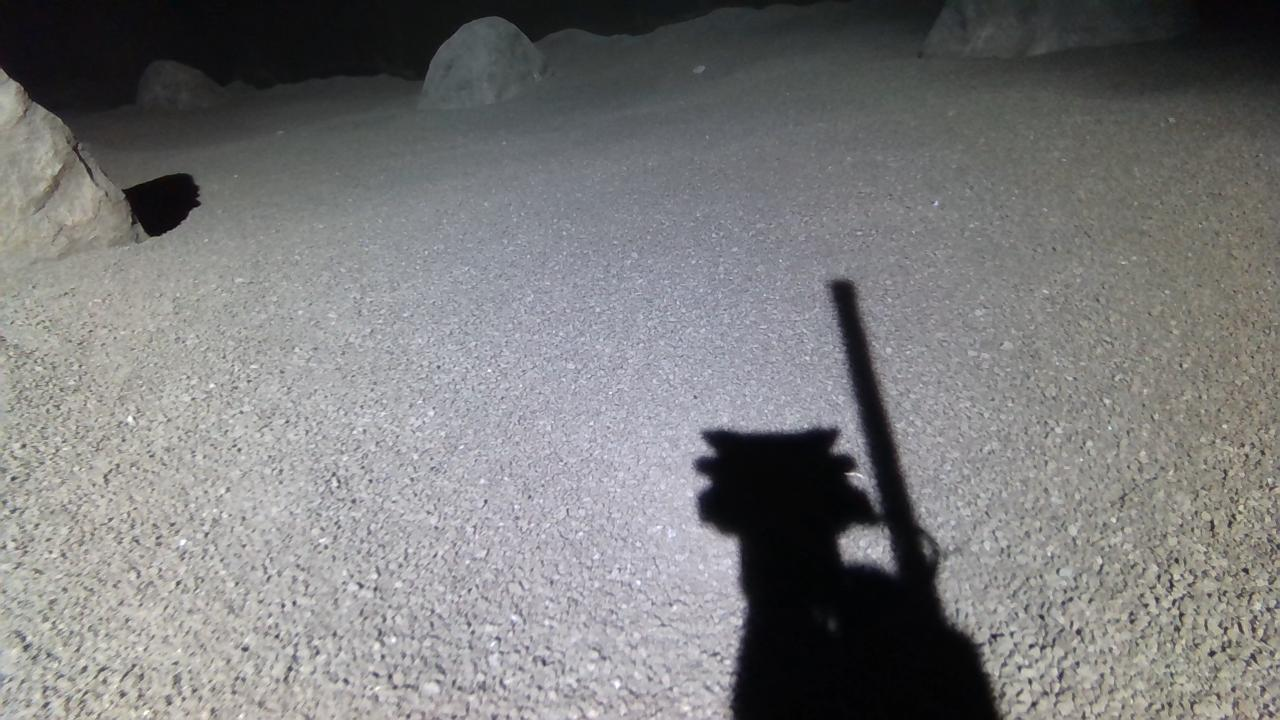rock: (922, 0, 1194, 57), (418, 15, 544, 108), (135, 59, 227, 107)
